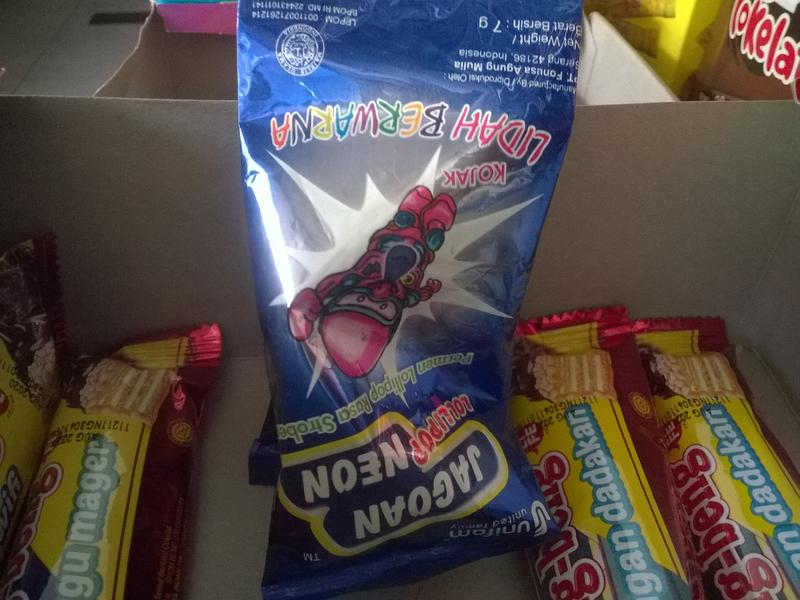jagoan neon: (237, 1, 580, 599)
